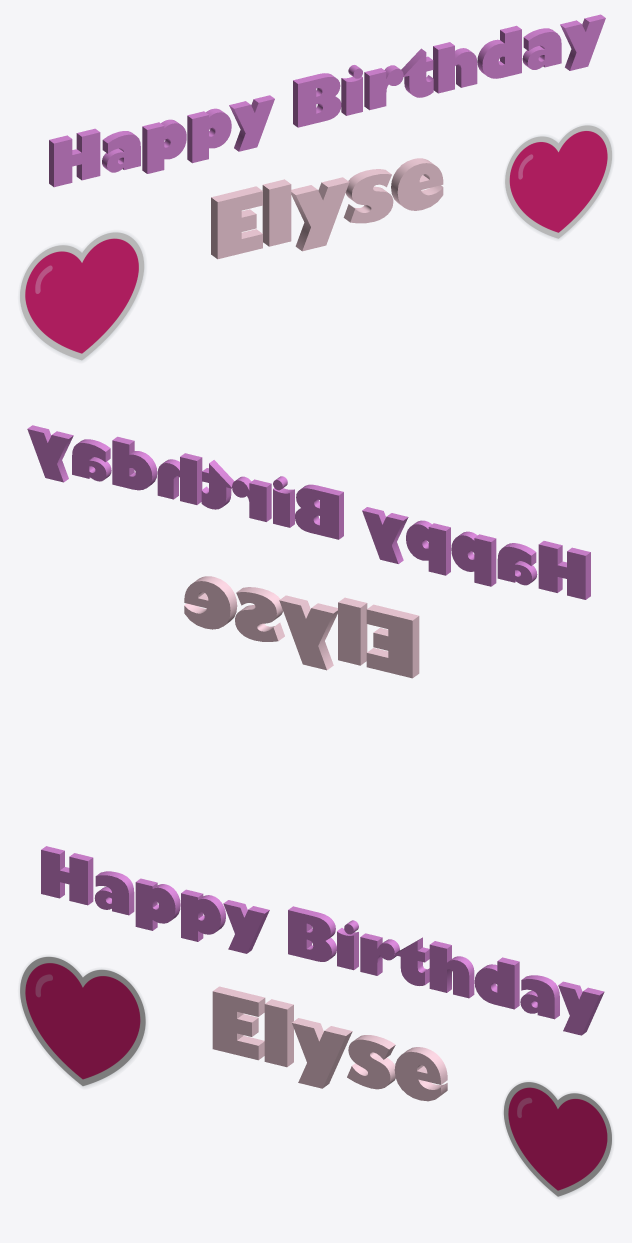
The model's file is name.gltf.
3 views of the same model, one above another, from view 1: azimuth 30°, elevation 25°; view 2: azimuth 150°, elevation 25°; view 3: azimuth 330°, elevation 25° (orthographic).
Visible parts, largest first — view 1: node_id33, root (×2), node_id44; view 2: node_id33, node_id44; view 3: node_id33, root (×2), node_id44.
Boxes of the visible parts, x1=… form: node_id33: x1=49, y1=14, x2=605, y2=187; root (×2): x1=20, y1=125, x2=612, y2=360; node_id44: x1=211, y1=158, x2=443, y2=259; node_id33: x1=27, y1=425, x2=590, y2=599; node_id44: x1=184, y1=576, x2=419, y2=678; node_id33: x1=41, y1=846, x2=604, y2=1035; root (×2): x1=20, y1=956, x2=611, y2=1196; node_id44: x1=212, y1=986, x2=447, y2=1101.
Bounding box in the file's own units: 0.00784 × 0.00312 × 0.000216.
4 materials, 2 textured.
